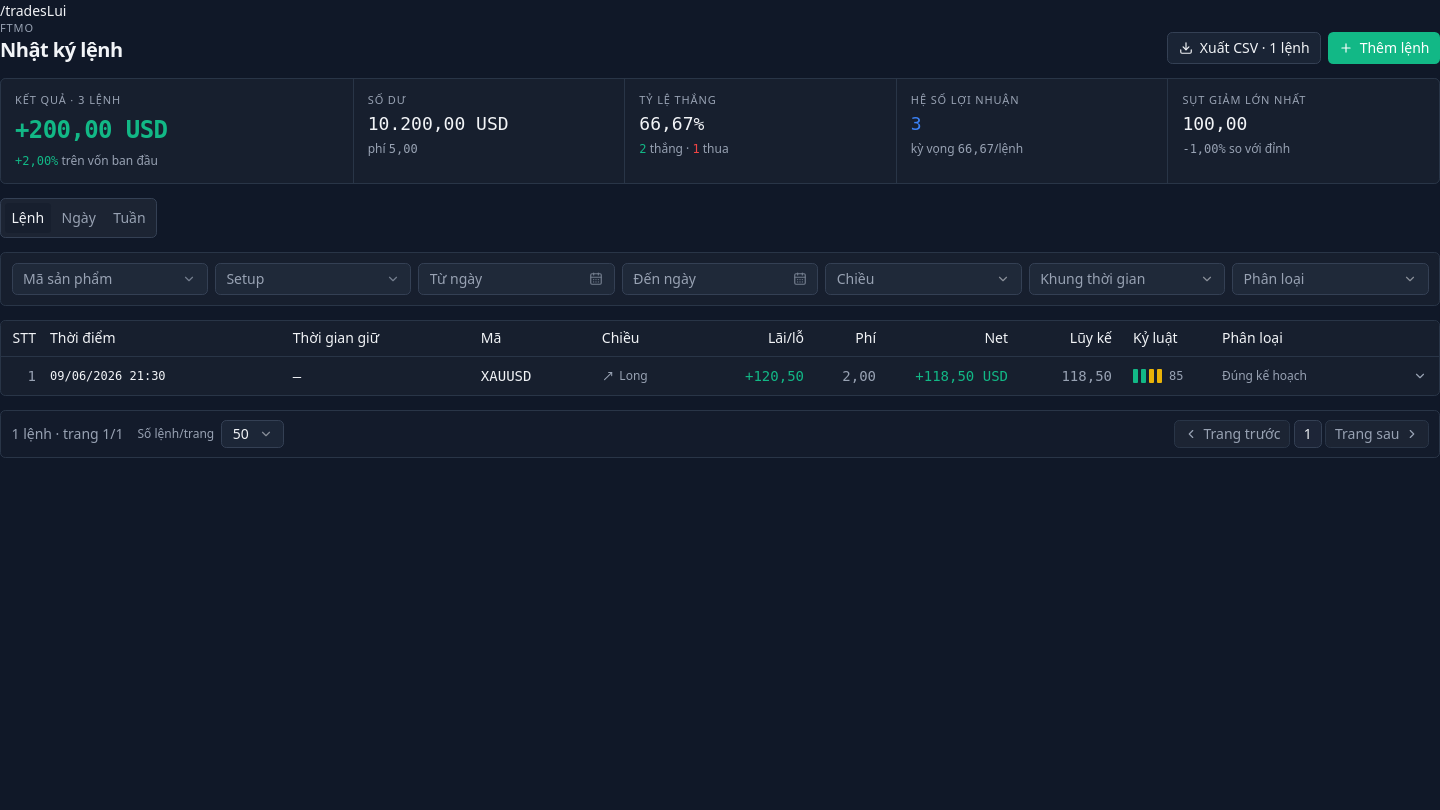
Test case: mở form thêm lệnh từ nút trên đầu trang
This screenshot has width=1440, height=810.
Expected: the row "XAUUSD" is shown, [1,356,1439,395]
Click the button "Thêm lệnh": (1384, 48) [1328,32,1439,64]
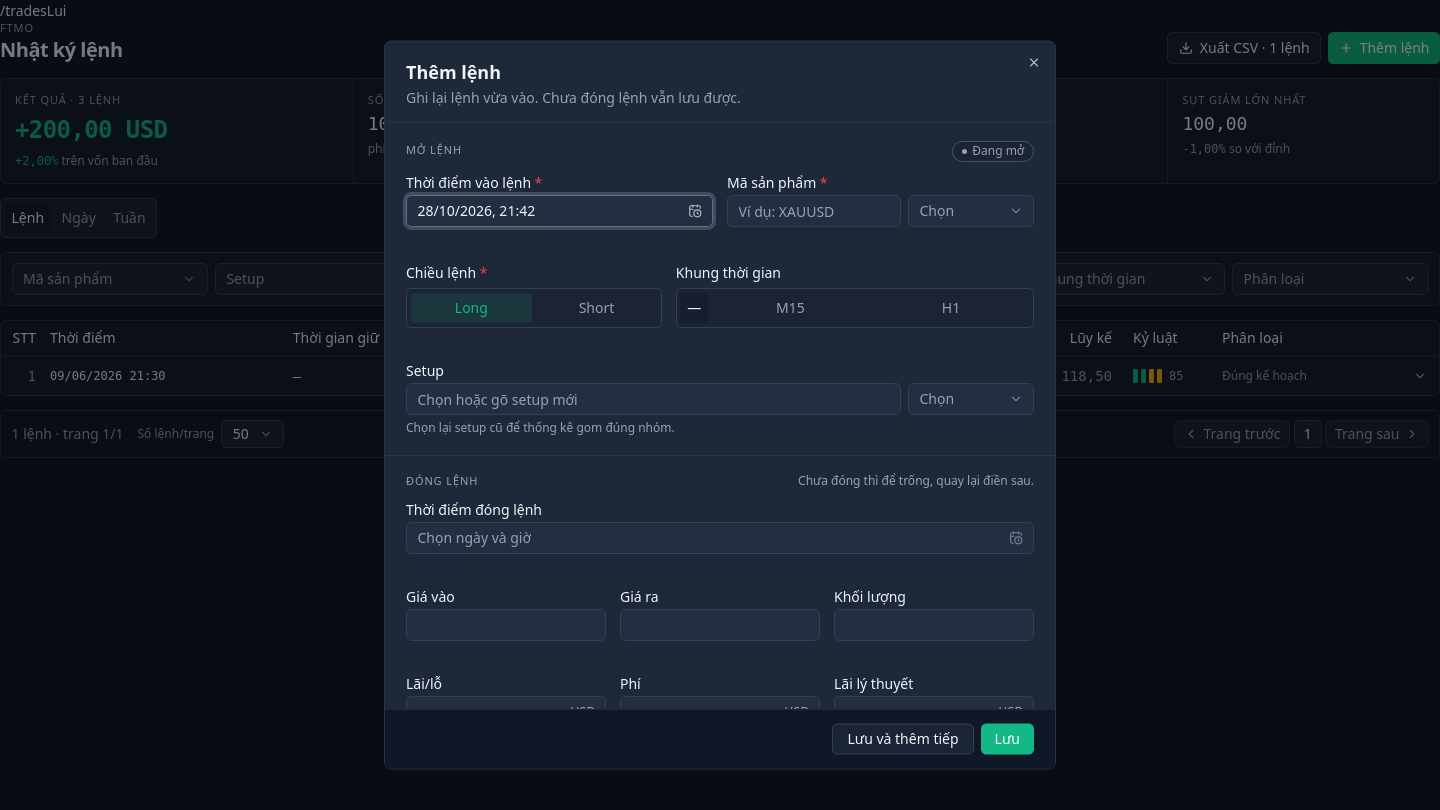
Result: the dialog shows "Thêm lệnh" at [406,60,501,84]
